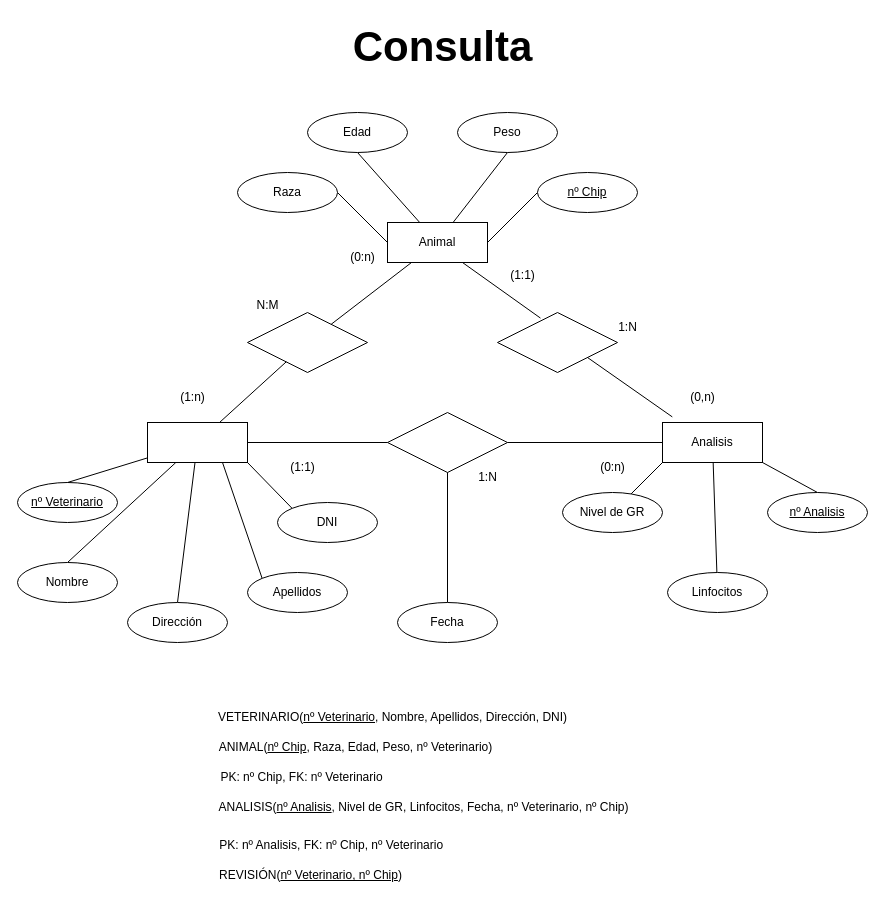
The diagram is 885 pixels wide and 907 high, and some of its shapes have lost their labels. Here are the shapes that lost their labels. From the top down, the box of each, then its label:
(246, 312, 368, 372): Revisa
(496, 312, 618, 372): Tiene
(146, 422, 248, 462): Veterinario
(386, 412, 508, 472): Realiza
